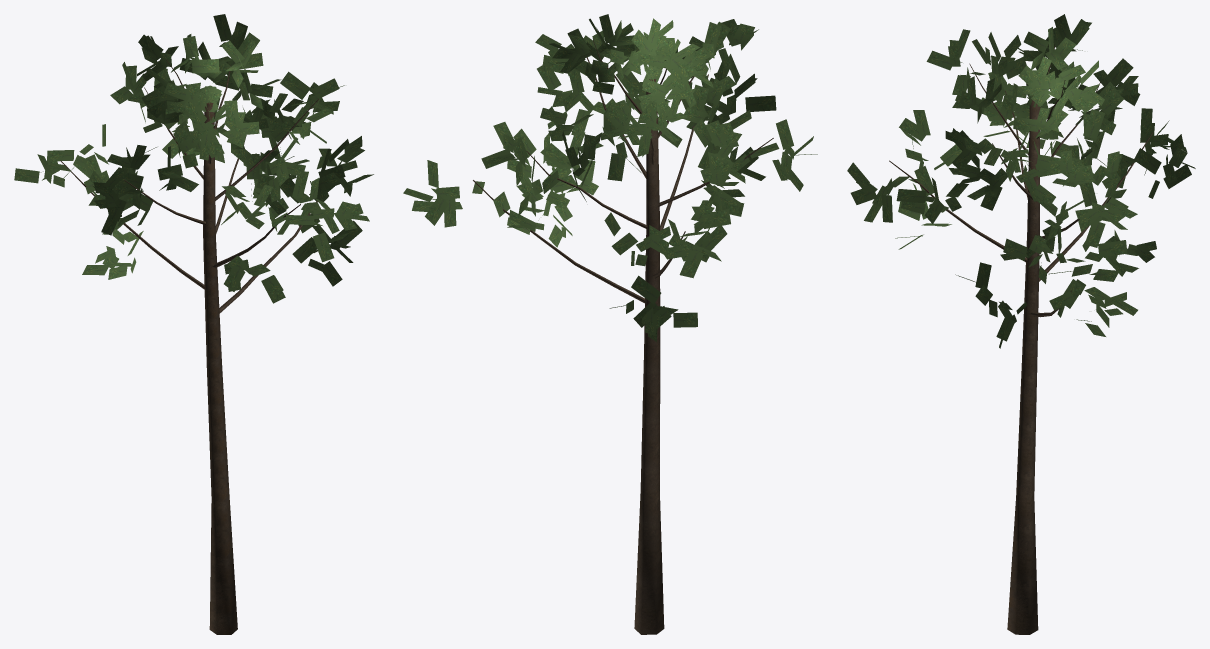
File: pine_open_v02_LOD2.fbx
3 views of the same model, side by side, from view 1: azimuth 30°, elevation 25°; view 2: azimuth 150°, elevation 25°; view 3: azimuth 270°, elevation 25° (orthographic). The views are drawn at different scales.
Visible parts, largest first — view 1: pine_open_v02_LOD2; view 2: pine_open_v02_LOD2; view 3: pine_open_v02_LOD2.
Boxes of the visible parts, left/top/right/bottom form: pine_open_v02_LOD2: left=14, top=14, right=373, bottom=634; pine_open_v02_LOD2: left=403, top=14, right=817, bottom=634; pine_open_v02_LOD2: left=847, top=14, right=1195, bottom=634.
Size of the model in its own units: 1312 by 1197 by 2244.
2 materials, 2 textured.
